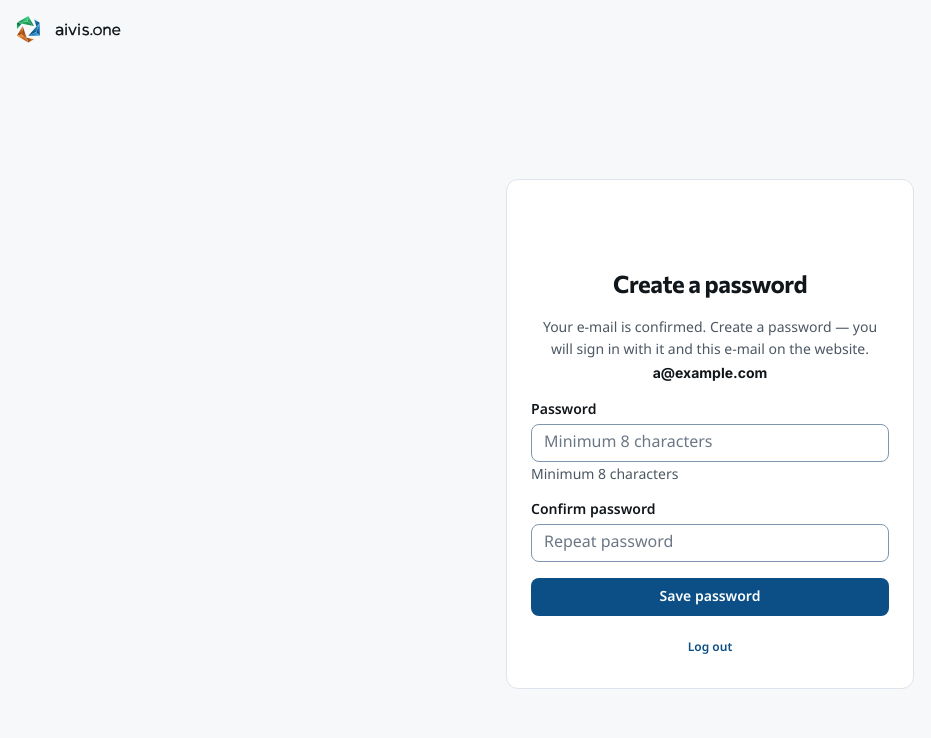
Test: SetPasswordView › shows the server words of another refusal and stays
The image size is (931, 738).
Type "Chosen-pass-1" into the password field labelled "Password".
click(710, 443); type("Chosen-pass-1")  # box [531,424,889,462]
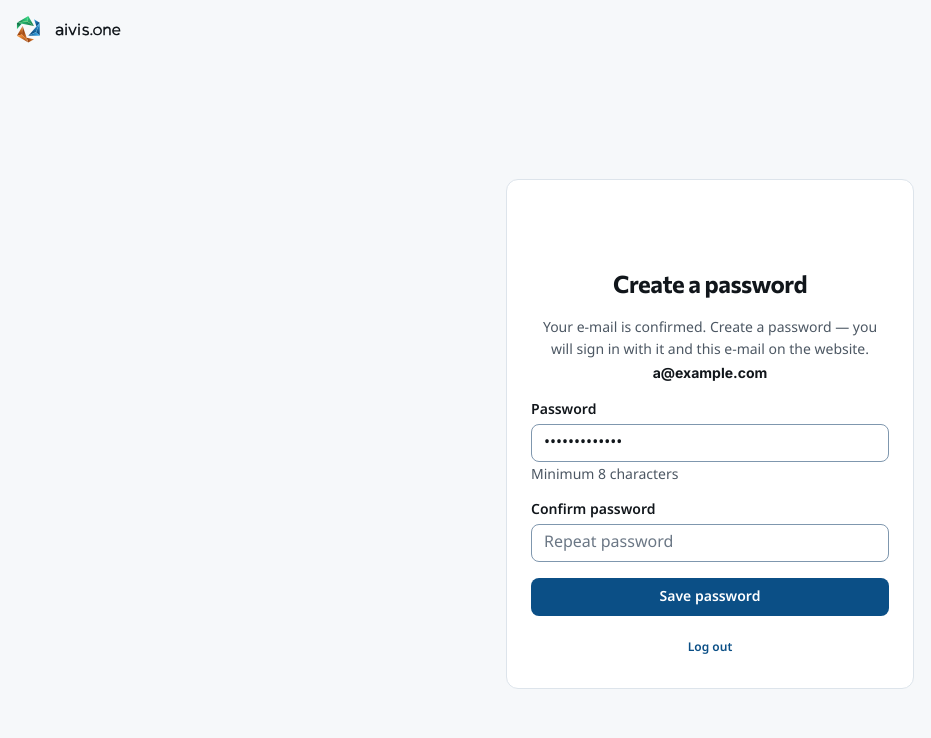
Type "Chosen-pass-1" into the password field labelled "Confirm password".
click(710, 543); type("Chosen-pass-1")  # box [531,524,889,562]
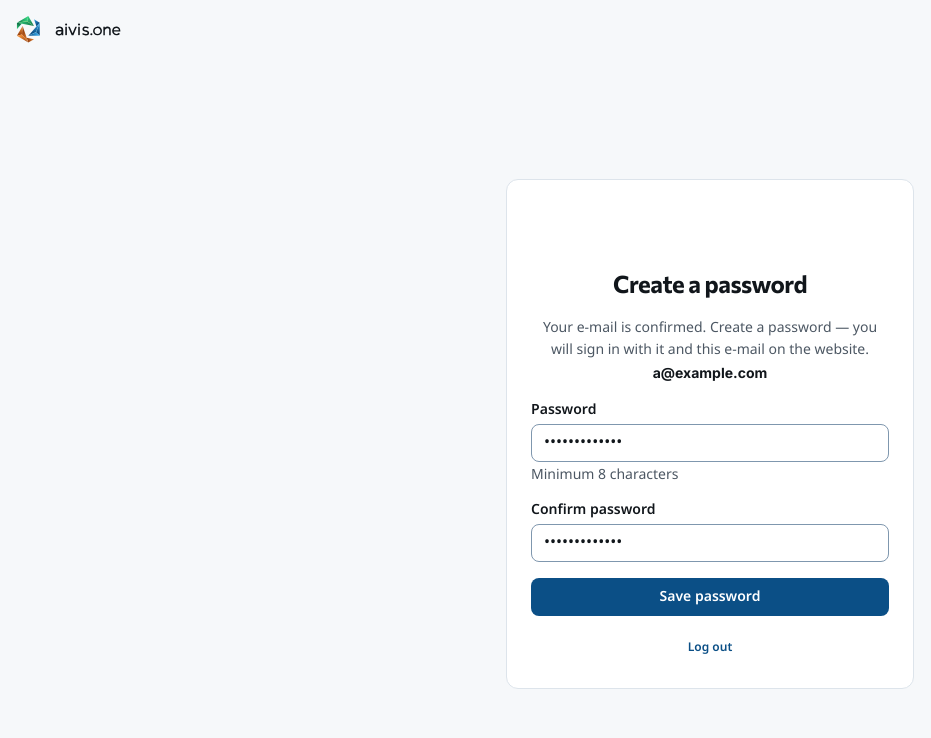
Click the button with class "ds-button--primary".
click(710, 597)  # box [531,578,889,616]
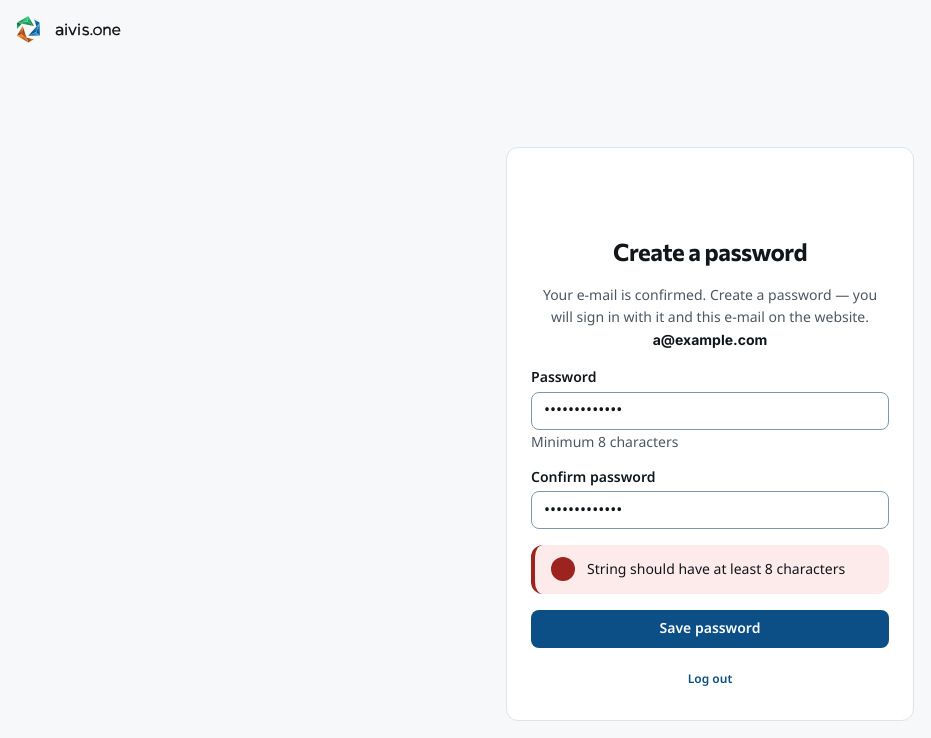
Expected: the message "String should have at least 8 characters" is shown, [531,545,889,594]
